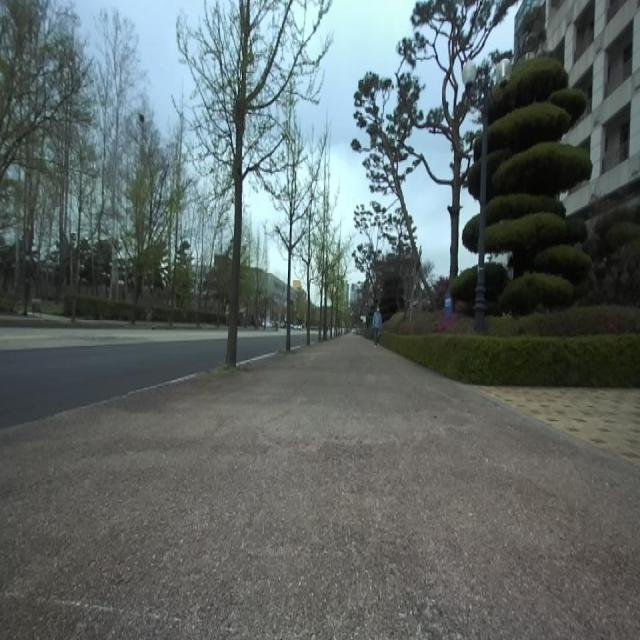sidewalk: (0, 335, 640, 640)
